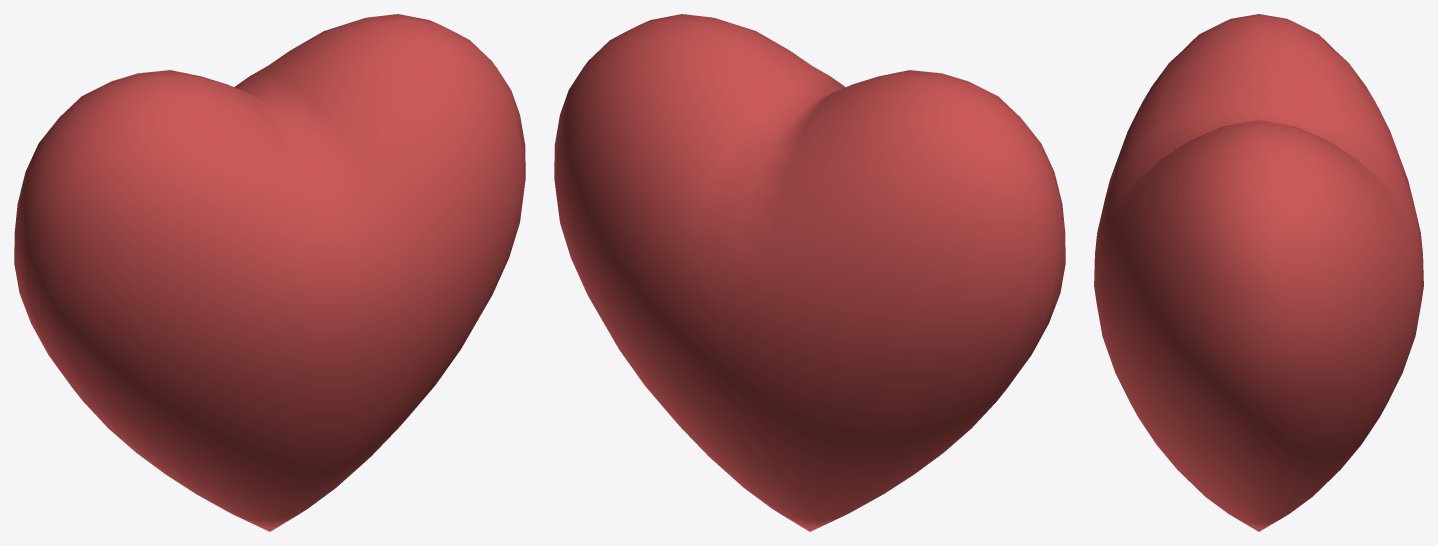
The model's file is heart.fbx.
3 renders of one model, left to right at view 1: azimuth 30°, elevation 25°; view 2: azimuth 150°, elevation 25°; view 3: azimuth 270°, elevation 25°, orthographic. The views are drawn at different scales.
Parts seen in each view (by area): view 1: Heart; view 2: Heart; view 3: Heart.
Boxes of the visible parts, x1=… form: Heart: x1=14, y1=14, x2=525, y2=531; Heart: x1=554, y1=14, x2=1065, y2=531; Heart: x1=1094, y1=14, x2=1423, y2=531.
Size of the model in its own units: 132 by 82.13 by 124.
